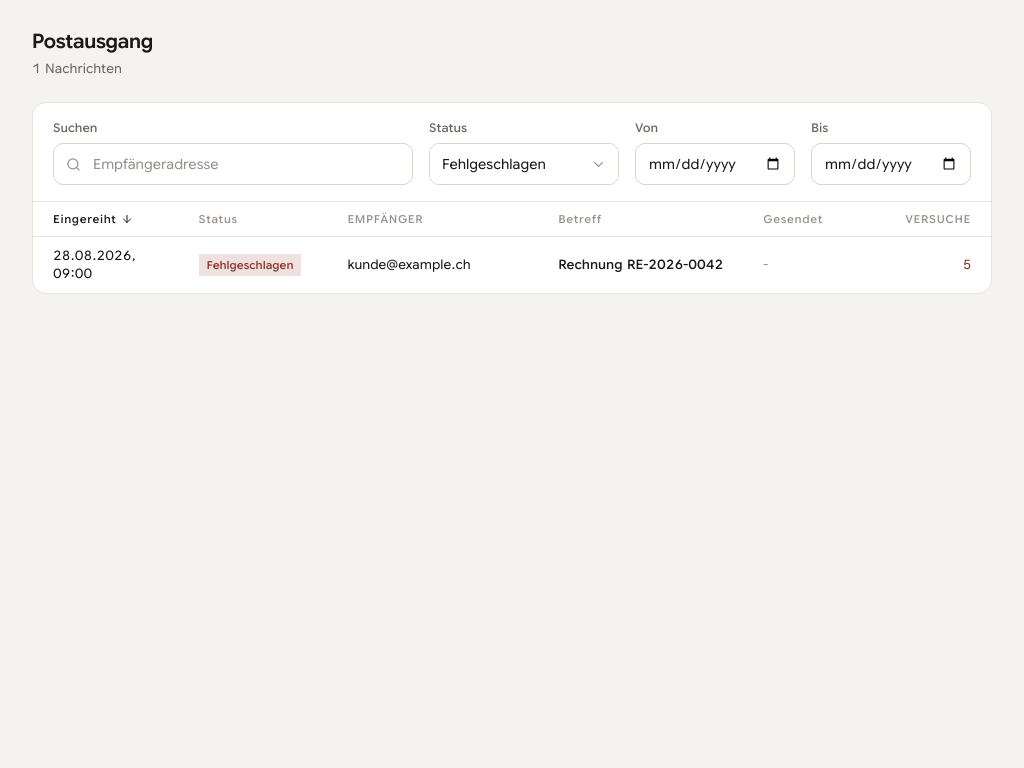
Test: OutboxListPage › outboxListPageShowsTheReasonOfAFailureTest
Click the row that starts with "Fehlgeschlagen" at (94, 256), box top-left (33, 236), bottom-right (991, 293)
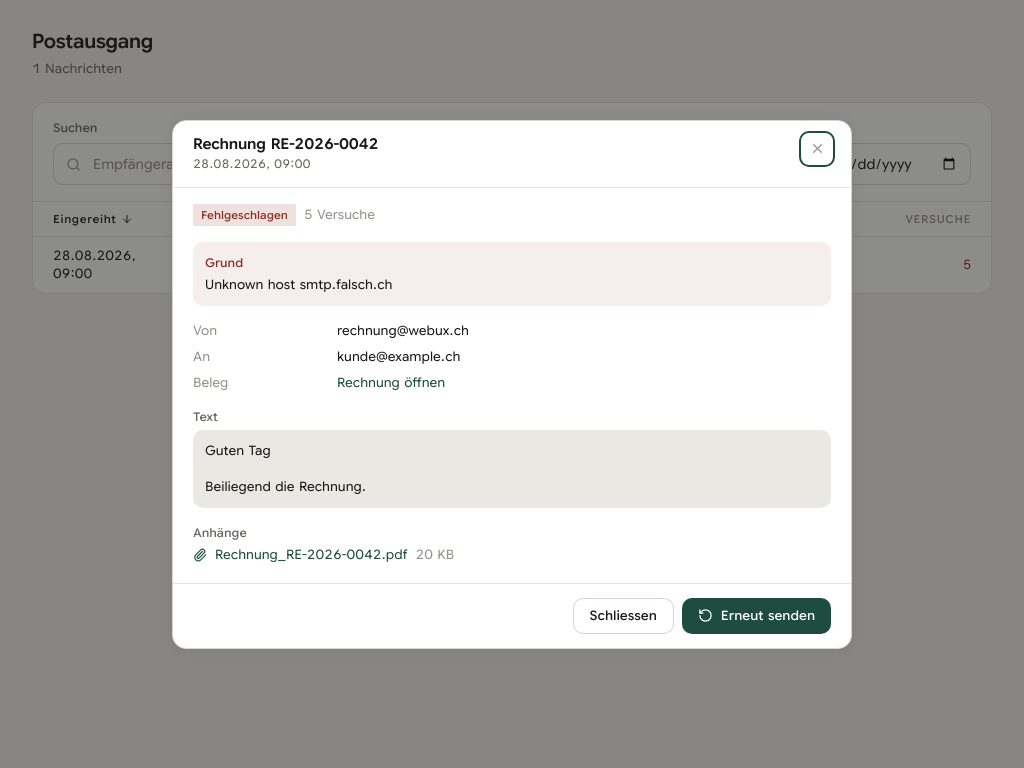
Result: the text "Unknown host smtp.falsch.ch" is shown at top-left (205, 276), bottom-right (392, 292)
Result: the text "Beiliegend die Rechnung." is shown at top-left (205, 442), bottom-right (366, 494)
